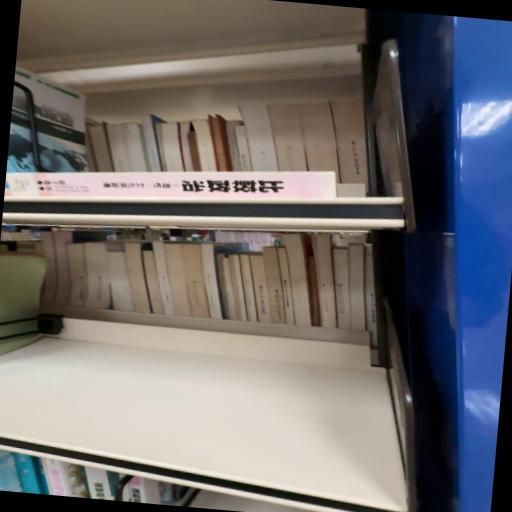flat: (5, 173, 338, 201)
